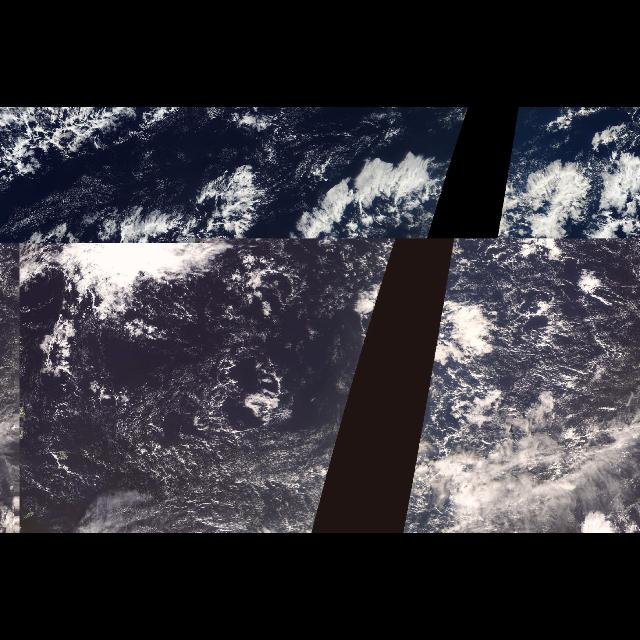Gravel: (486, 264, 630, 438)
Sugar: (114, 398, 336, 532), (461, 276, 627, 394)
